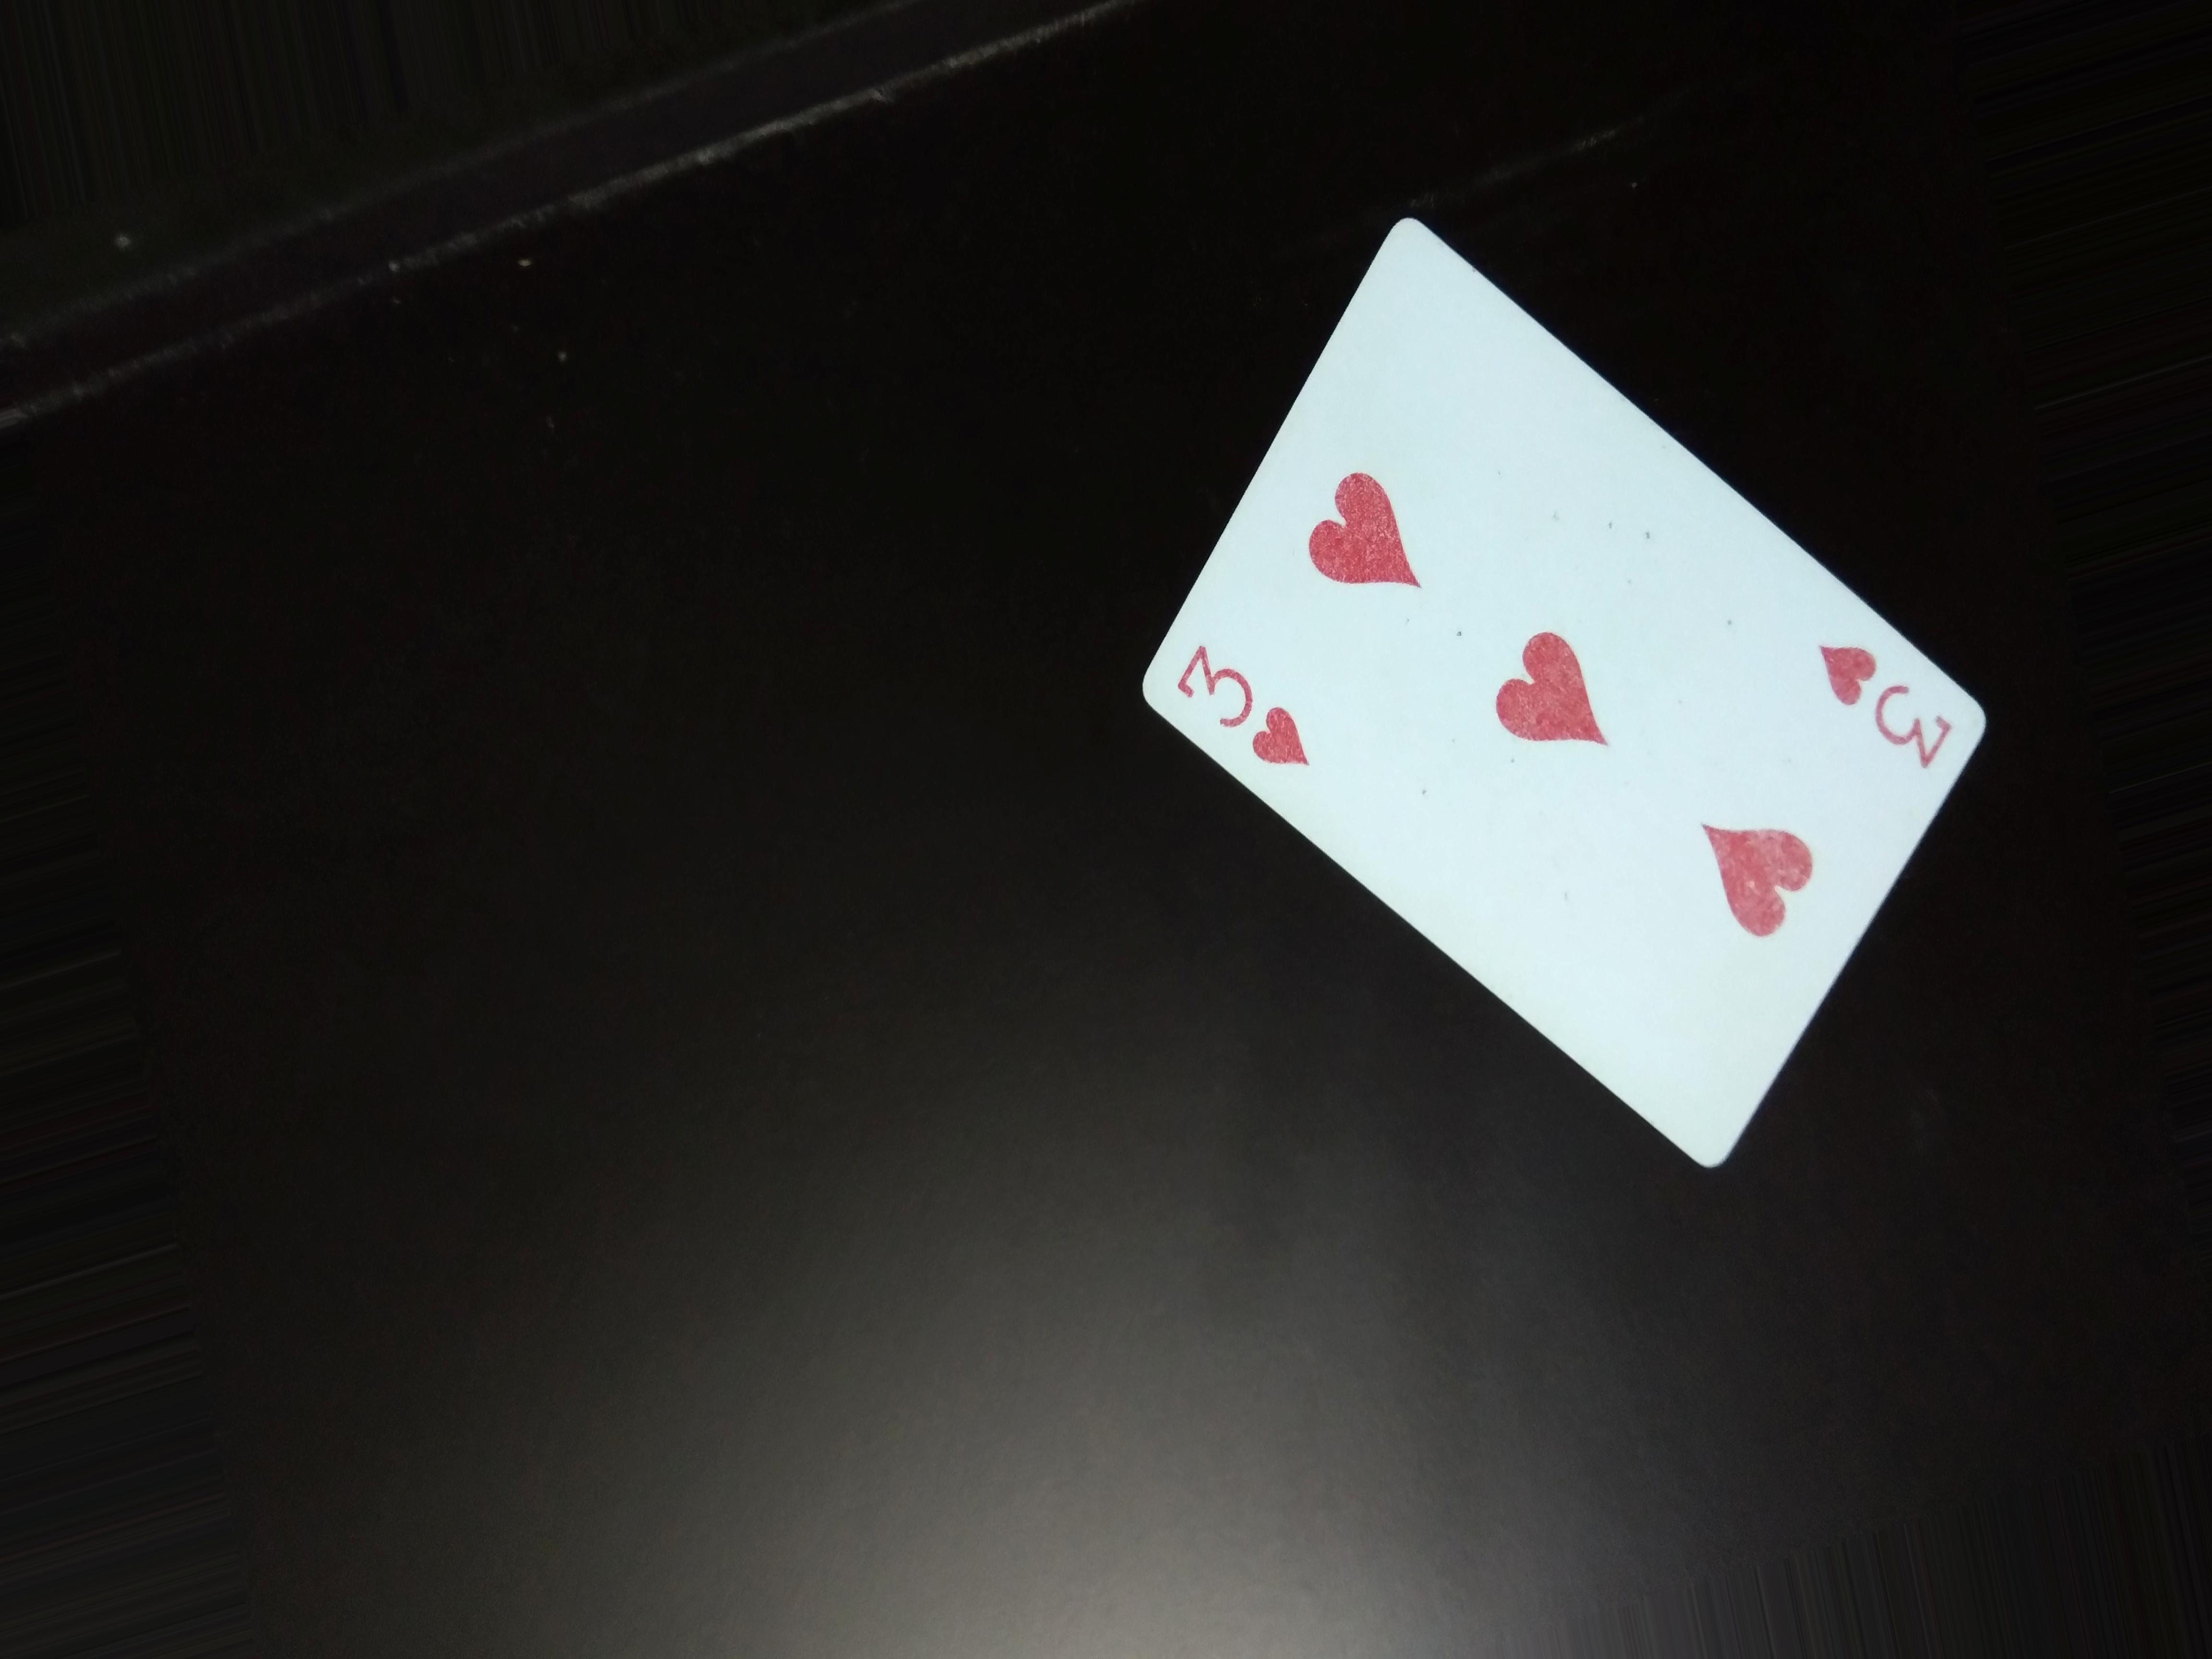3H: (1797, 626, 1972, 772)
